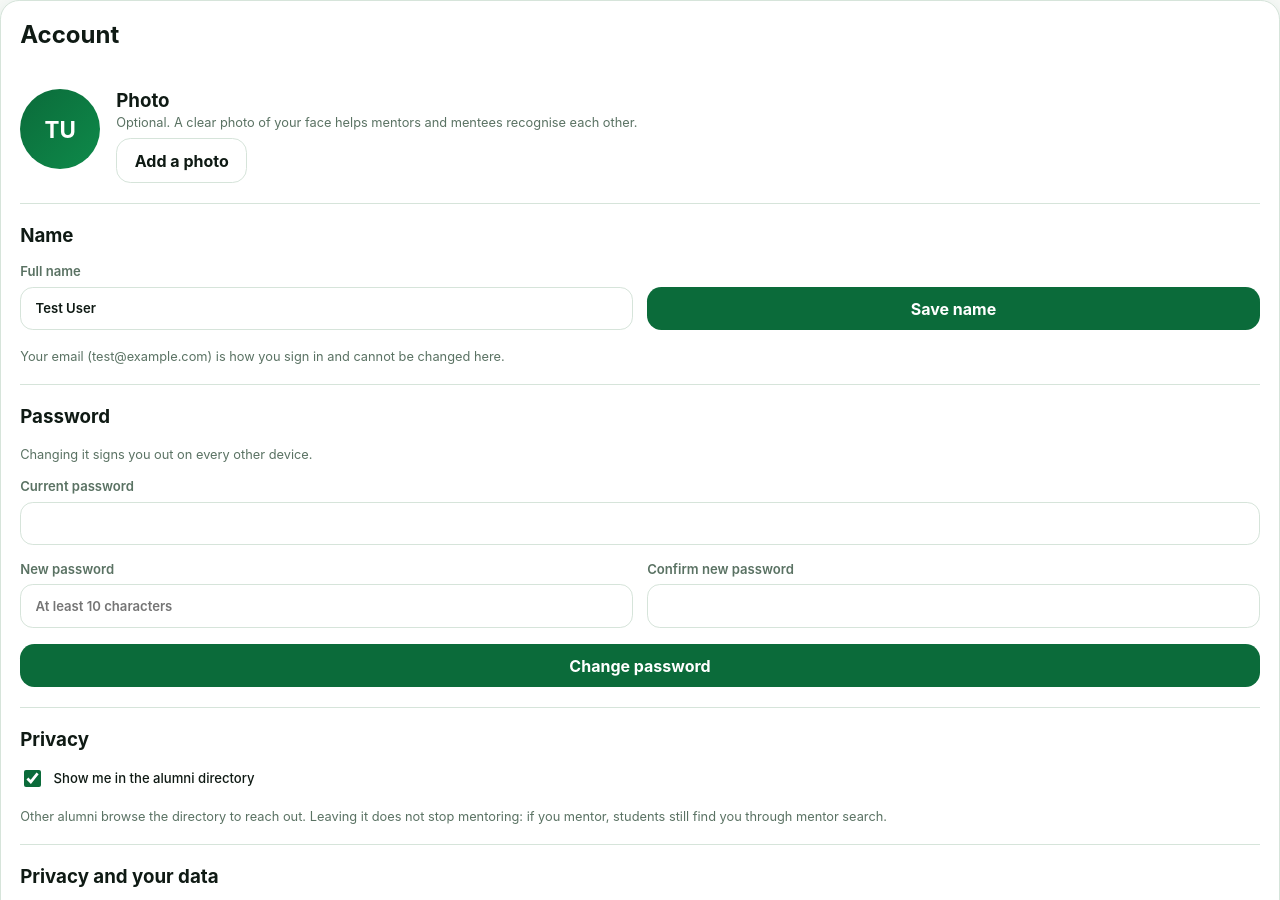
directory visibility › lets an alumnus leave the alumni directory
Click the checkbox labelled "Show me in the alumni directory".
click(33, 778)  # box [24,770,41,787]
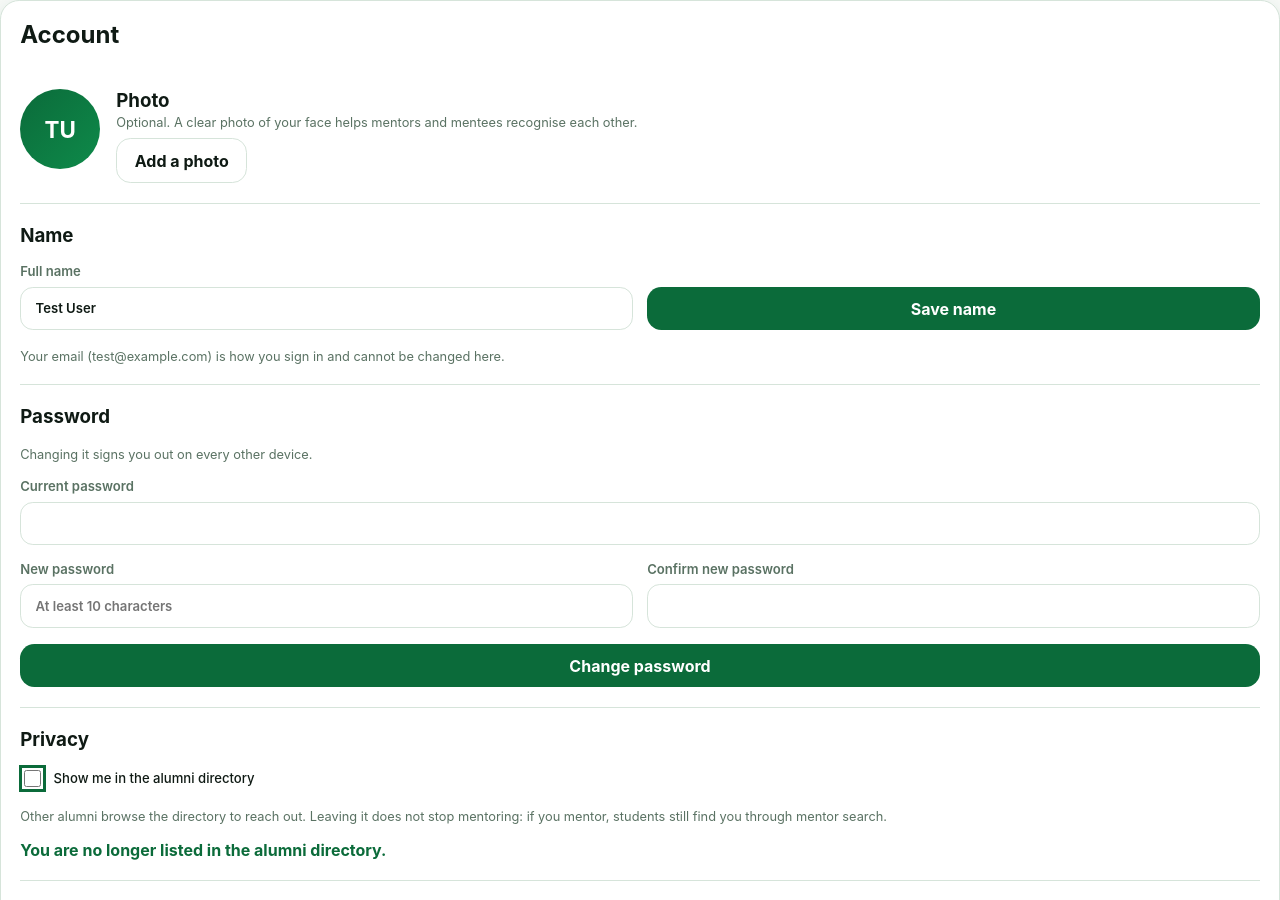
Expected: the checkbox labelled "Show me in the alumni directory" is not checked, [24,770,41,787]
Expected: the text "You are no longer listed in the alumni directory." is shown, [20,840,386,860]
